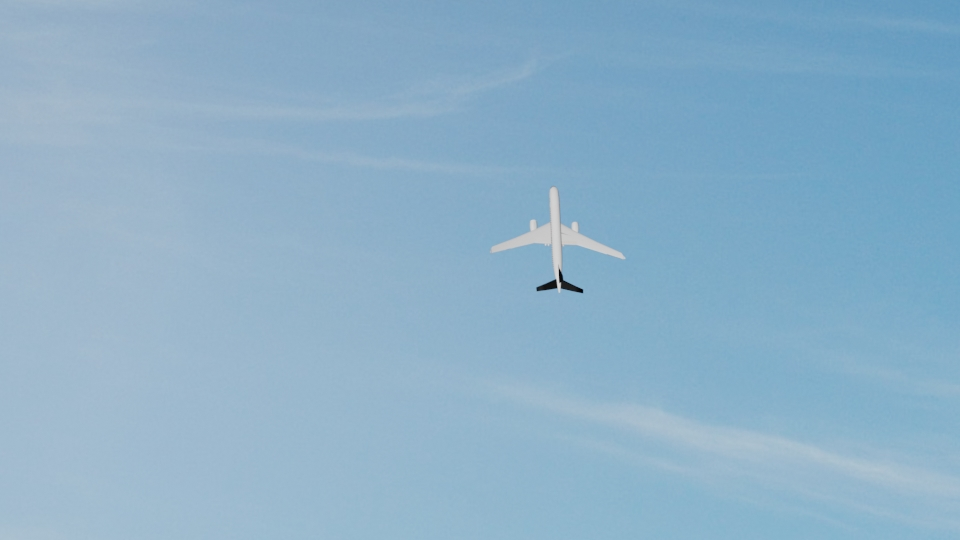plane: (492, 183, 625, 297)
